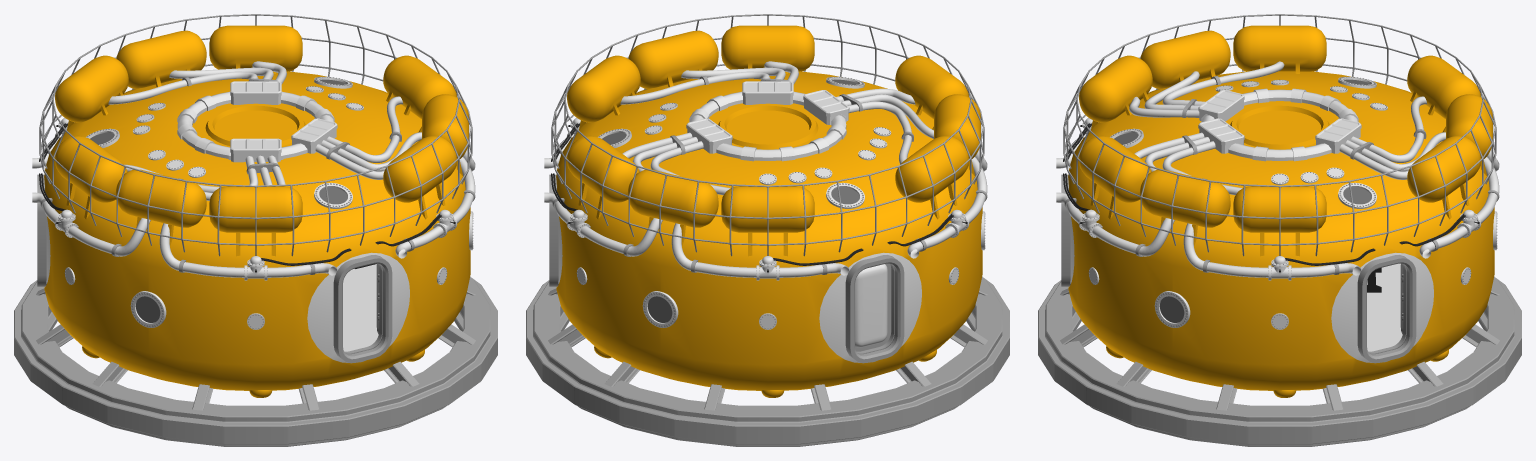
Rendered from Analyzer_w_Bonder1.fbx.
The picture shows the model from 3 angles, left to right: view 1: azimuth 30°, elevation 25°; view 2: azimuth 150°, elevation 25°; view 3: azimuth 270°, elevation 25°; orthographic projection.
Parts seen in each view (by area): view 1: AuxHub, HubRailing.001, Cylinder.005, Cube.048, Cube.059; view 2: AuxHub, HubRailing.001, Cylinder.005, Cube.059, Cube.058, Cube.057; view 3: AuxHub, HubRailing.001, Cylinder.005, Cube.057, Cube.048.
Part boxes in pixels (left/top/right/bottom): AuxHub: left=14, top=25, right=497, bottom=446; HubRailing.001: left=32, top=14, right=475, bottom=277; Cylinder.005: left=46, top=216, right=409, bottom=362; Cube.048: left=333, top=255, right=392, bottom=363; Cube.059: left=37, top=174, right=46, bottom=286; AuxHub: left=526, top=25, right=1009, bottom=446; HubRailing.001: left=544, top=14, right=987, bottom=277; Cylinder.005: left=558, top=216, right=921, bottom=362; Cube.059: left=845, top=255, right=904, bottom=363; Cube.058: left=855, top=263, right=891, bottom=351; Cube.057: left=549, top=174, right=558, bottom=286; AuxHub: left=1038, top=25, right=1521, bottom=446; HubRailing.001: left=1056, top=14, right=1499, bottom=277; Cylinder.005: left=1070, top=216, right=1433, bottom=362; Cube.057: left=1357, top=255, right=1416, bottom=363; Cube.048: left=1061, top=174, right=1070, bottom=286.
Size of the model in its own units: 1130 by 640 by 1130.
